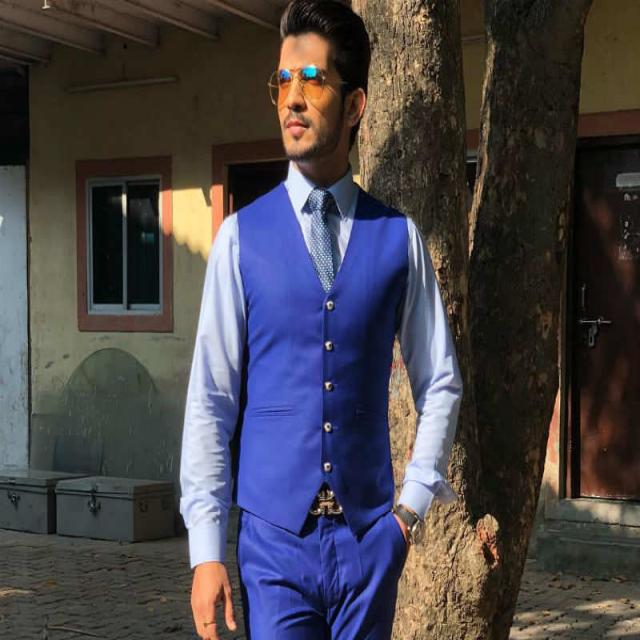mobile_phonerotation: (177, 1, 464, 638)
